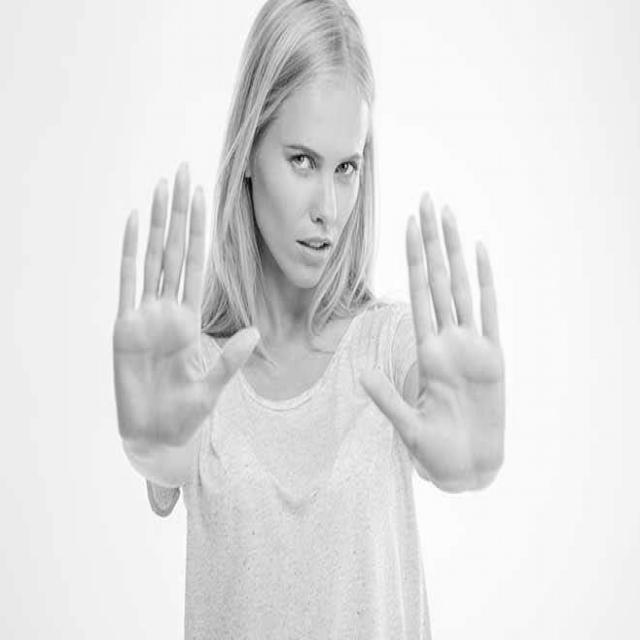stop: (352, 183, 511, 500), (108, 149, 263, 460)
